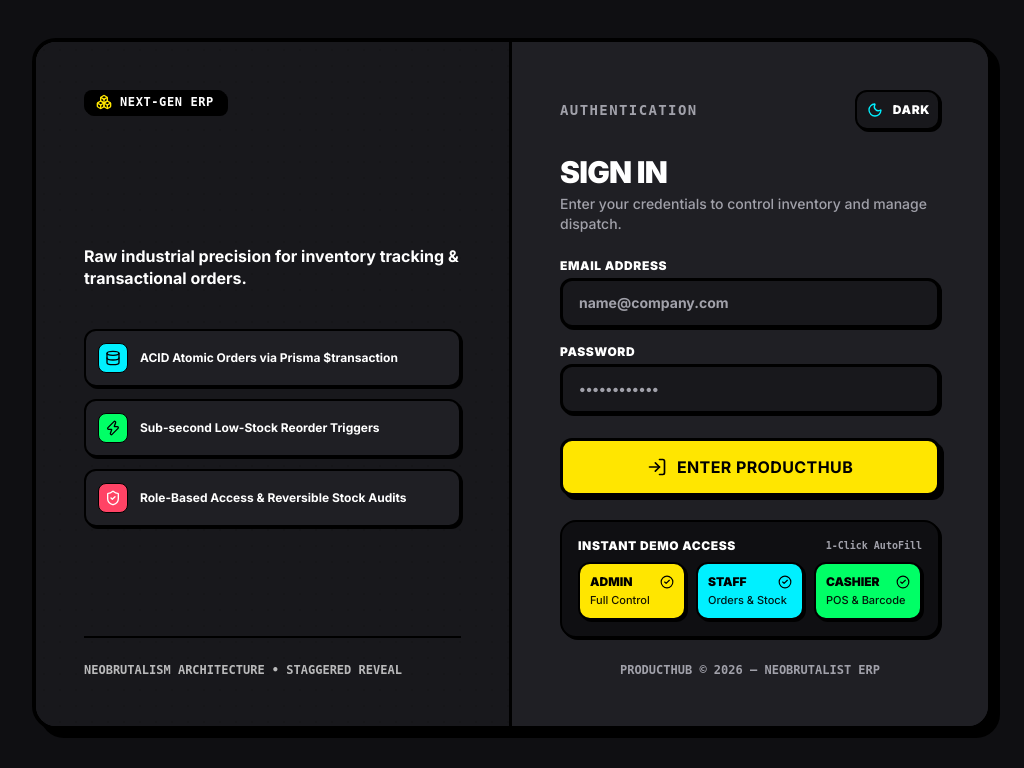
LoginPage Component (ProductHub) › displays error banner when authentication fails
Type "wrong@inventory.com" into the field with placeholder "name@company.com".
click(750, 303); type("wrong@inventory.com")  # box [560,278,940,328]
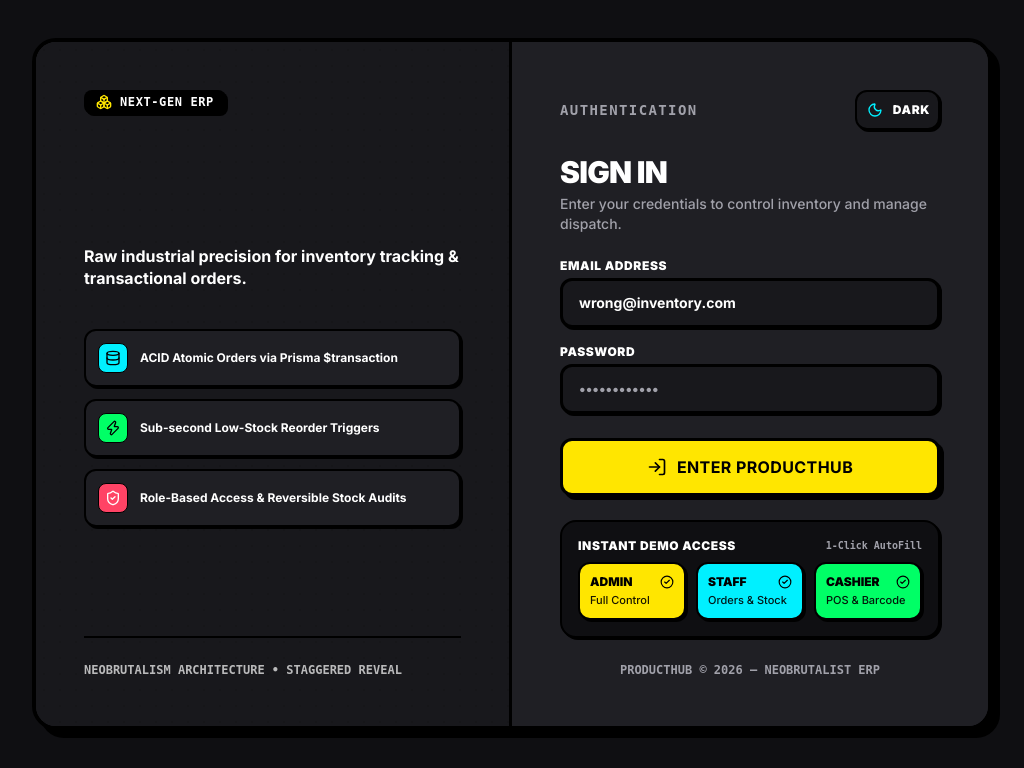
Type "wrongpass" into the password field with placeholder "••••••••••••".
click(750, 389); type("wrongpass")  # box [560,364,940,414]
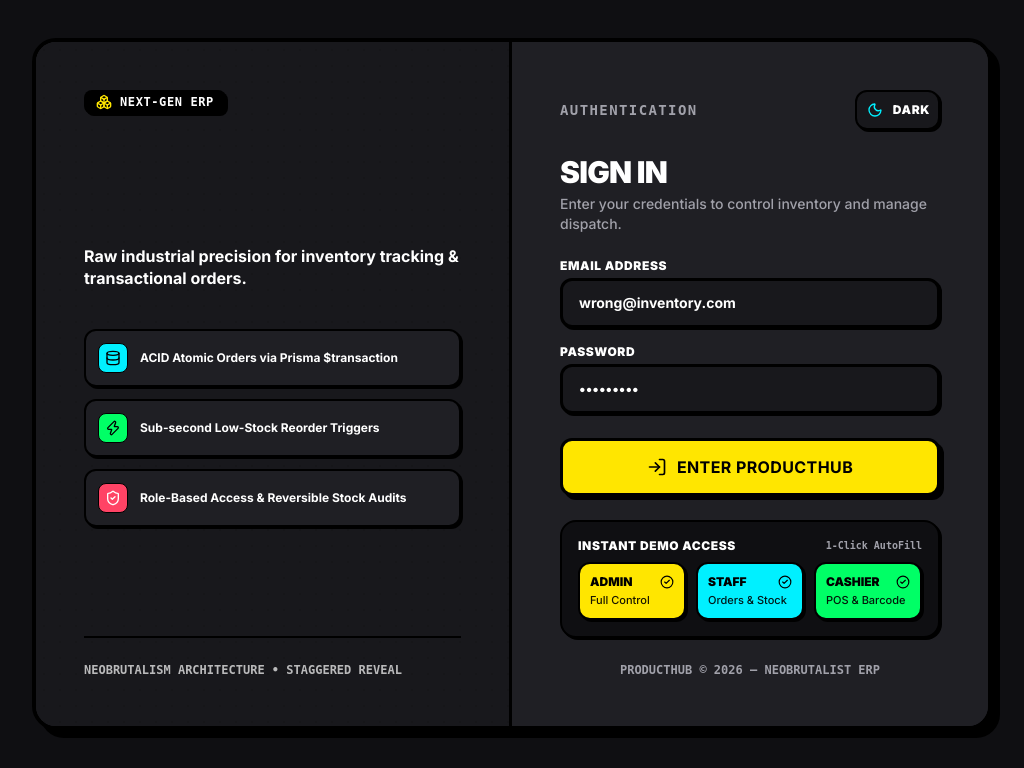
Click the button "Enter ProductHub".
click(750, 467)  # box [560,438,940,496]
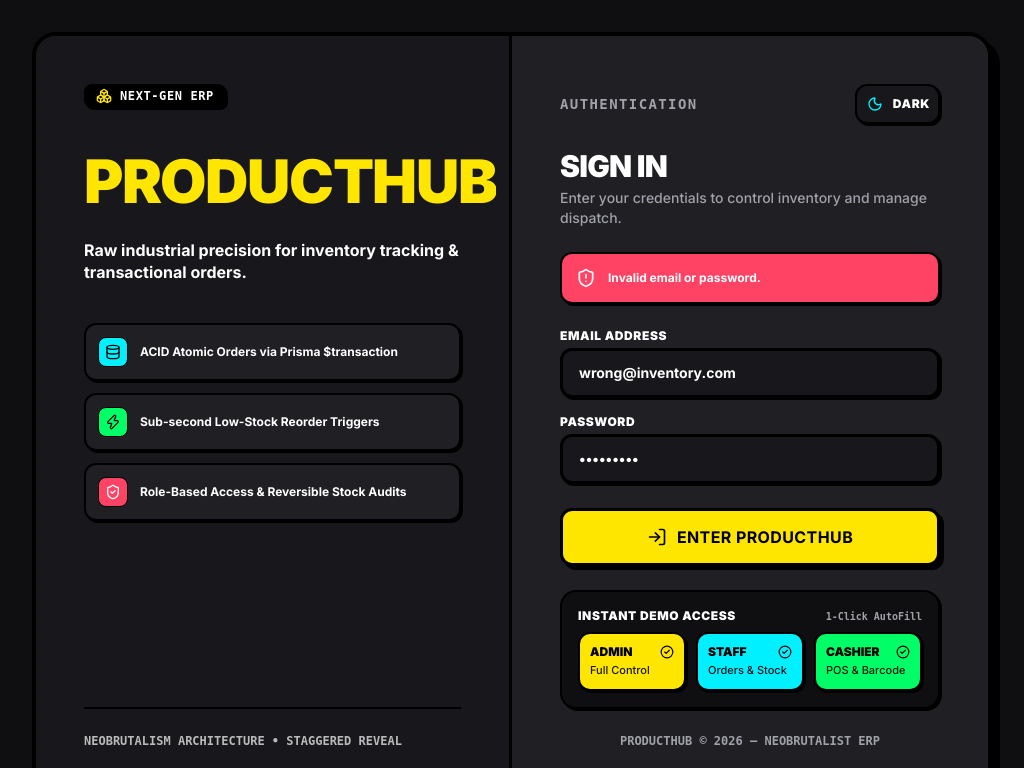
Expected: the text "Invalid email or password." is shown, [608,270,761,286]
